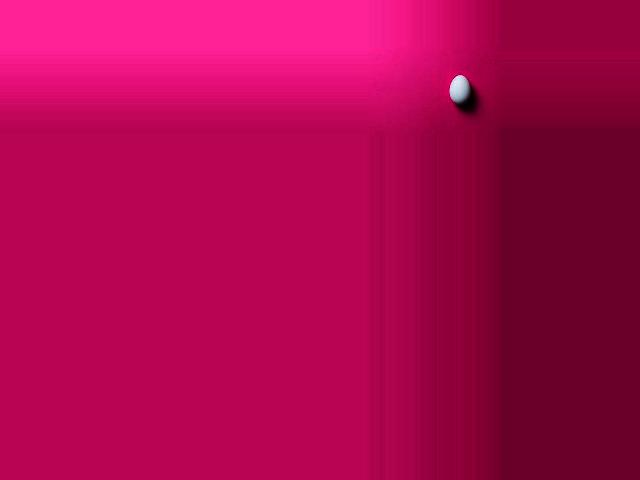egg: (448, 75, 470, 105)
